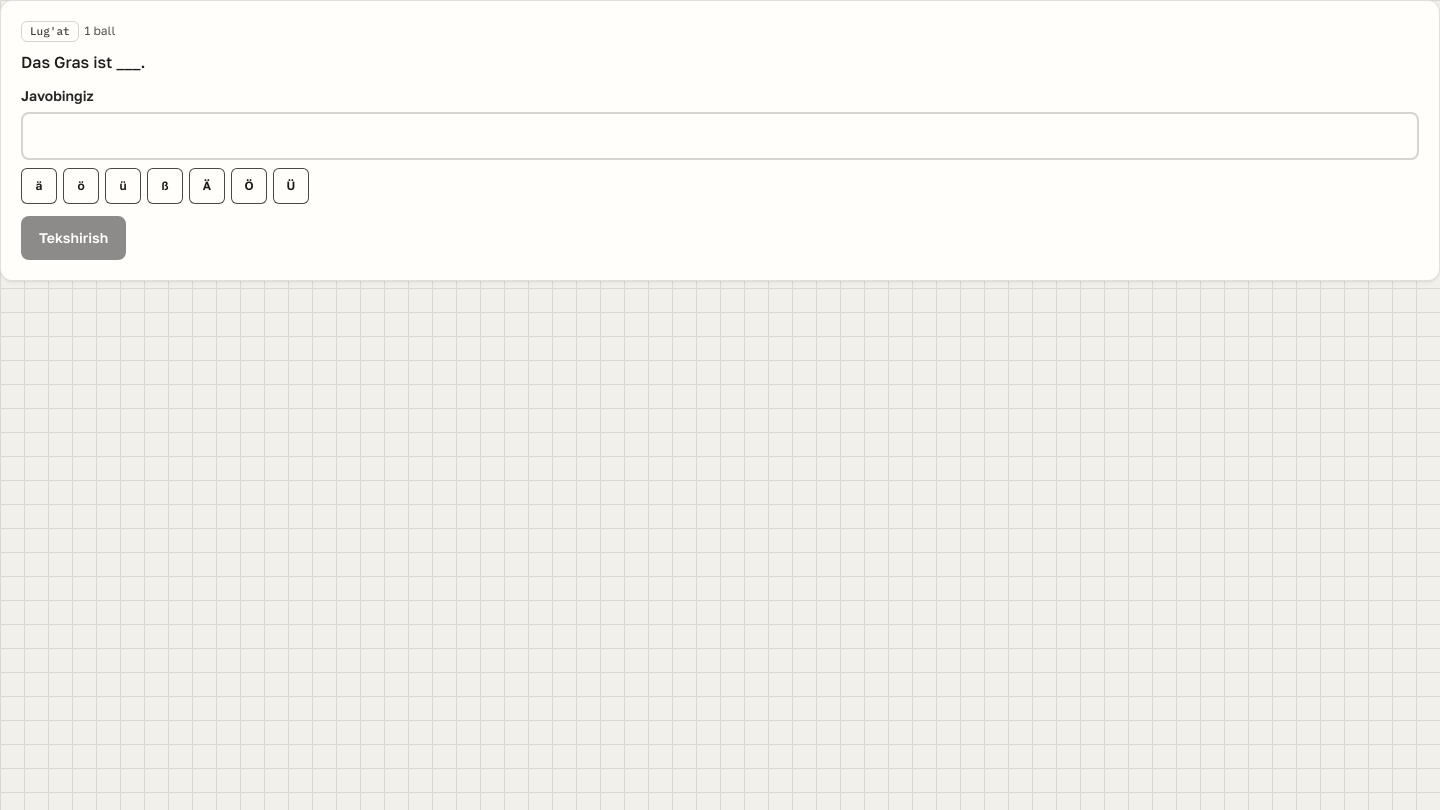
Test: text exercise › inserts umlauts, sends a string and shows correct answer, warning, error type and retry exercise
This screenshot has width=1440, height=810.
In the field labelled "Javobingiz": [720, 136] box [21, 112, 1419, 160], type "Gr"
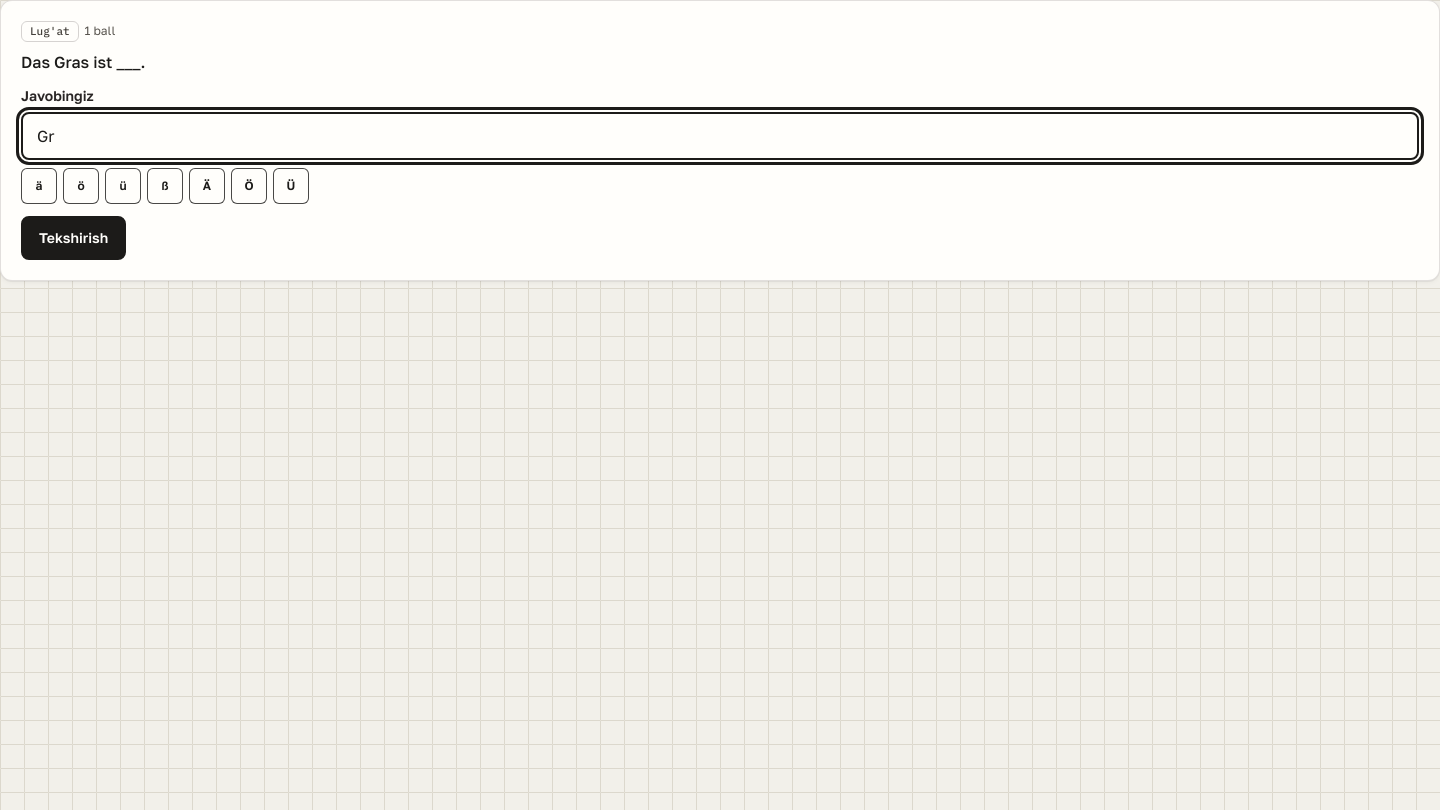
Click the button named "ü harfini qo'shish": [123, 186] box [105, 168, 141, 204]
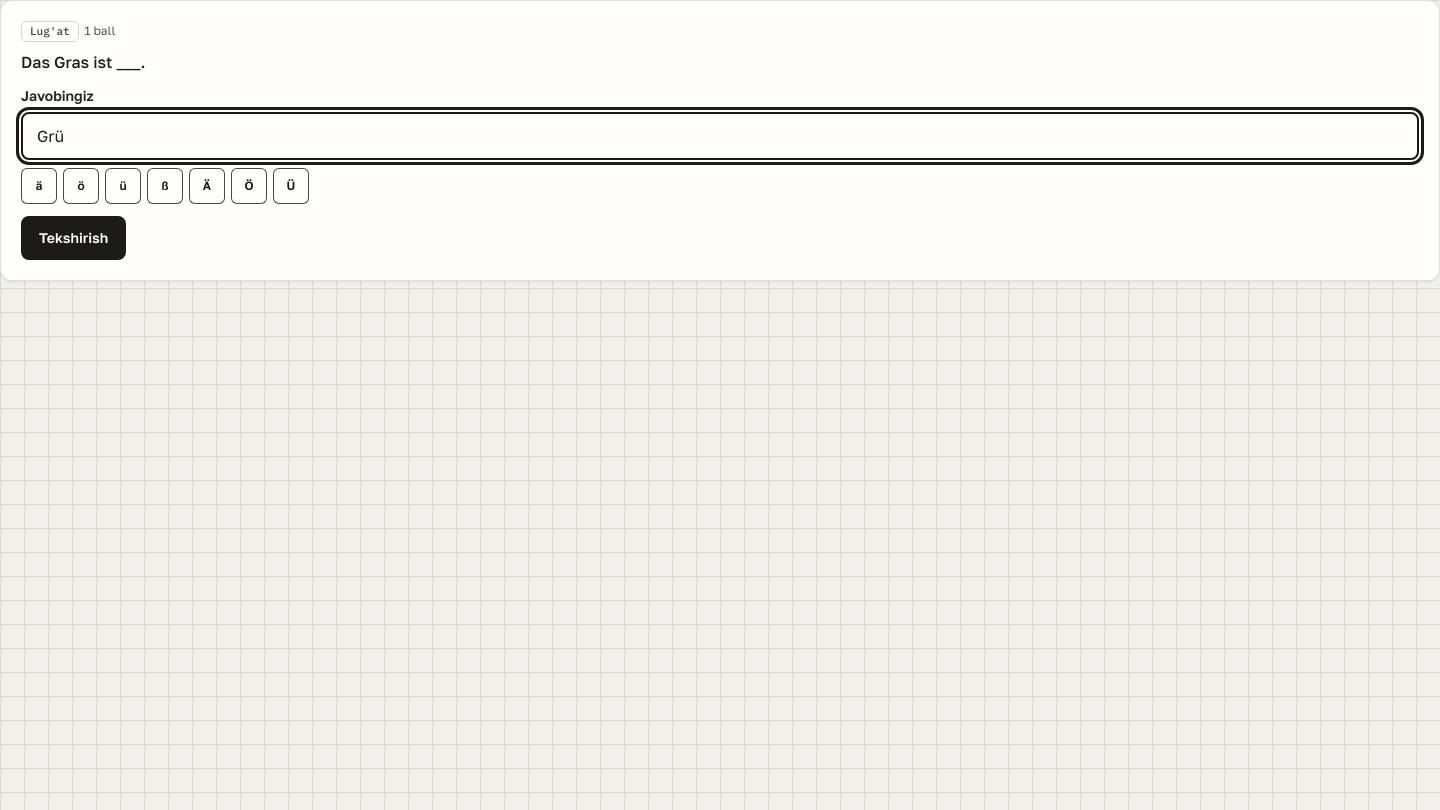
In the field labelled "Javobingiz": [720, 136] box [21, 112, 1419, 160], type "n"
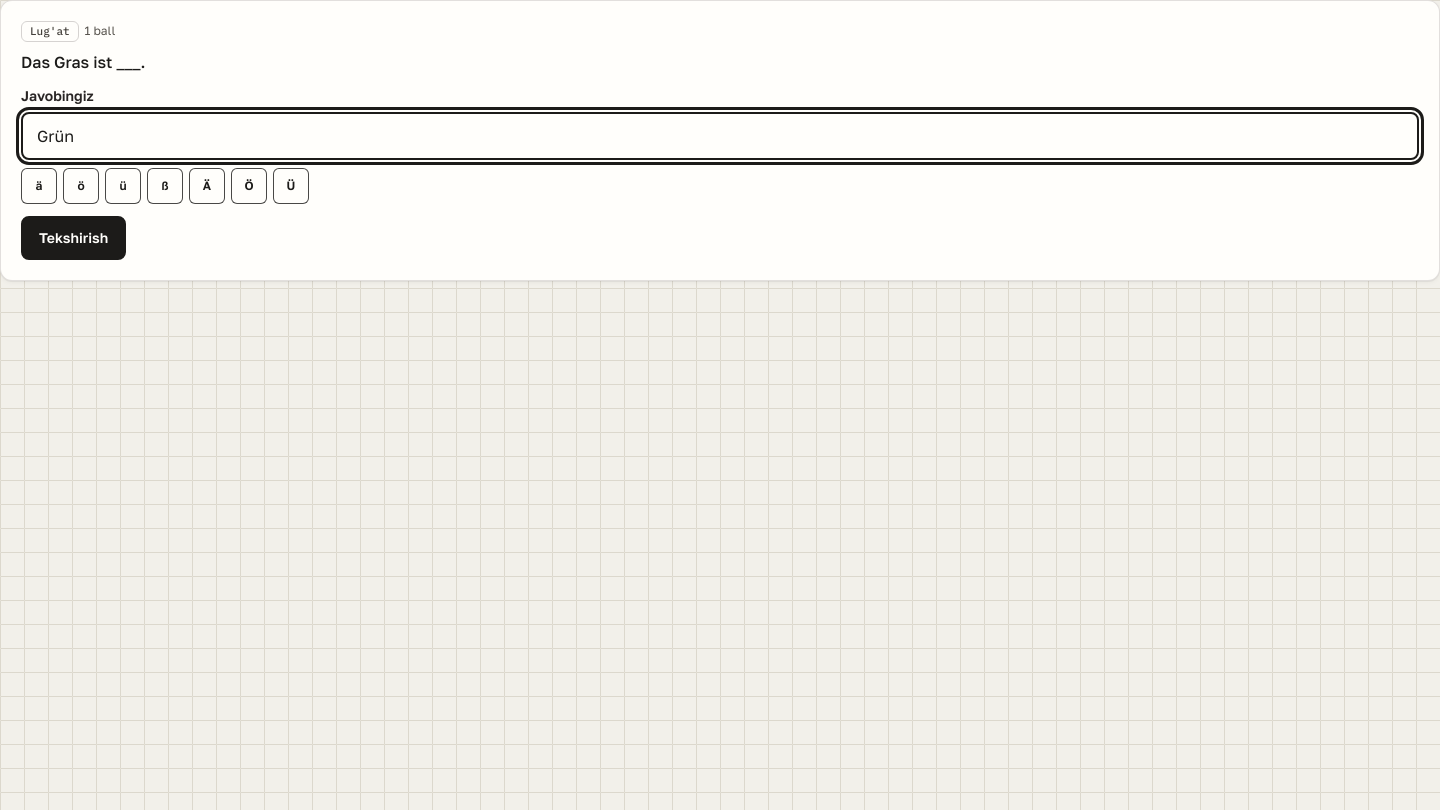
Result: the field labelled "Javobingiz" holds "Grün" at [21, 112, 1419, 160]
Click the button "Tekshirish": [74, 238] box [21, 216, 126, 260]
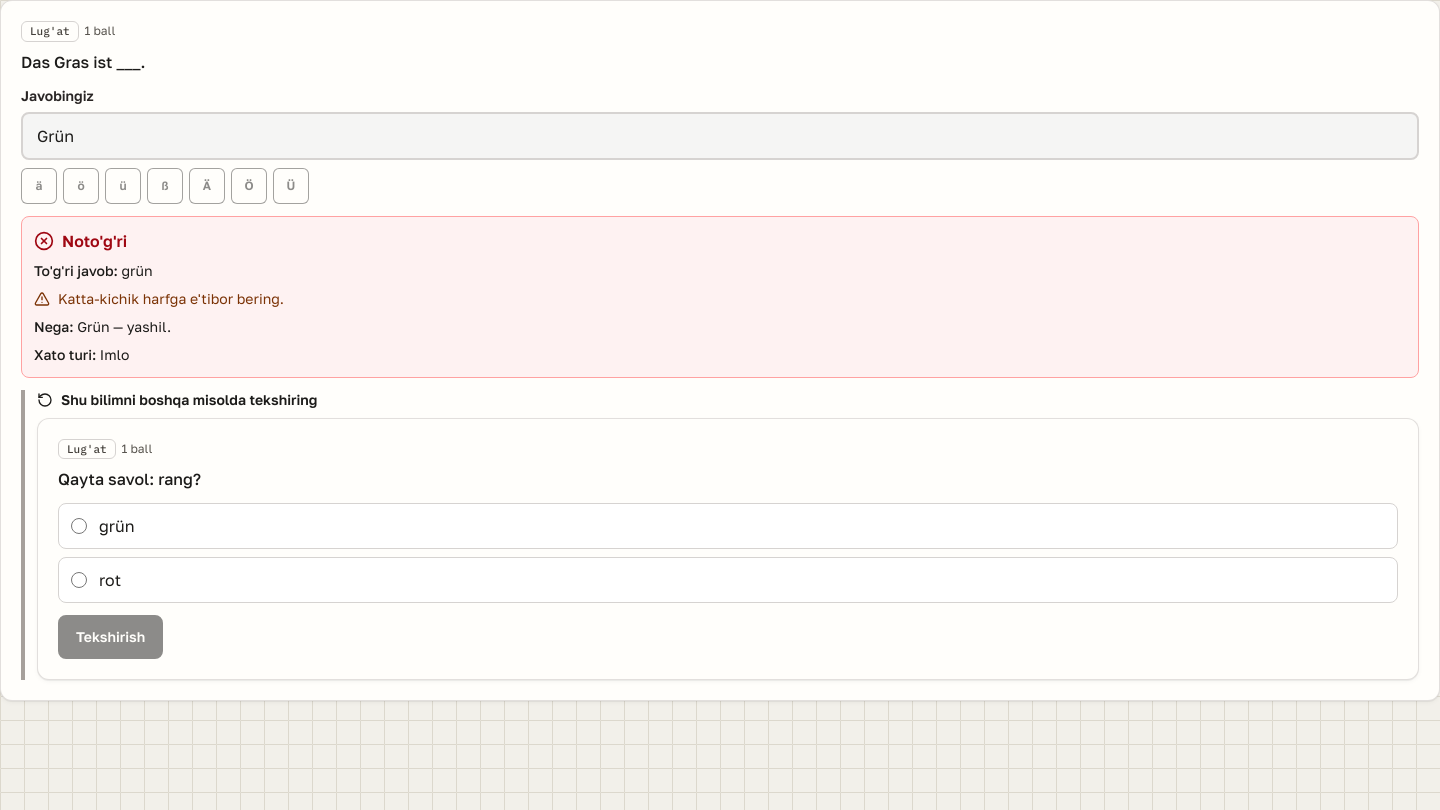
Result: the text "Noto'g'ri" is shown at [34, 231, 127, 251]
Result: the text "Katta-kichik harfga e'tibor bering." is shown at [34, 290, 284, 307]
Result: the text "Imlo" is shown at [100, 346, 129, 363]
